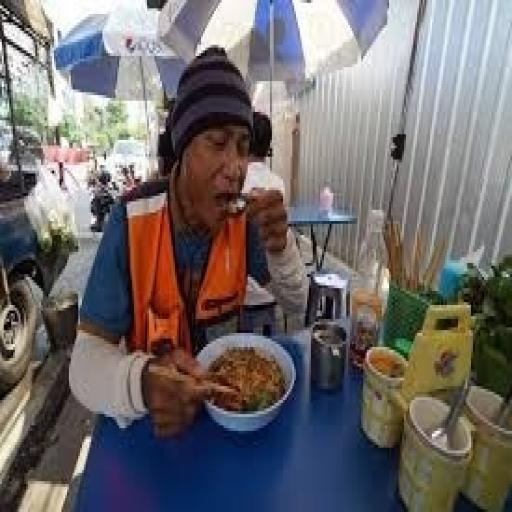eating: (67, 42, 311, 439)
